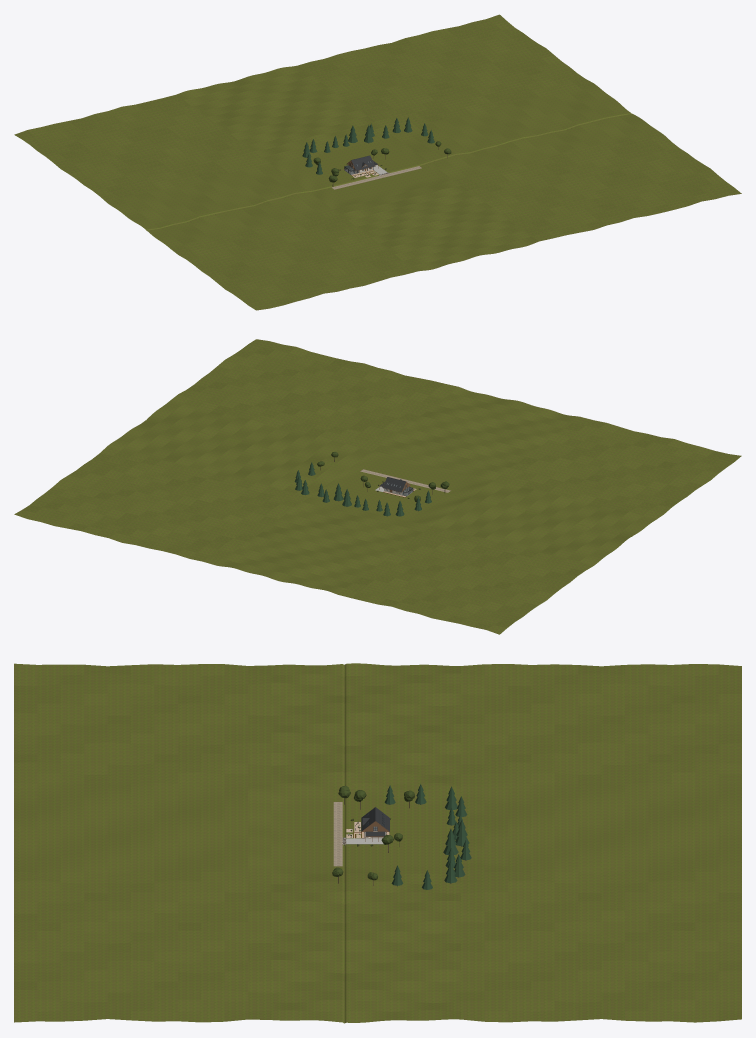
File: wojtek.glb
The picture shows the model from 3 angles, top to bottom: view 1: azimuth 30°, elevation 25°; view 2: azimuth 150°, elevation 25°; view 3: azimuth 270°, elevation 25°; orthographic projection. The views are drawn at different scales.
Parts seen in each view (by area): view 1: Teren_trawa, Swierki; view 2: Teren_trawa, Swierki; view 3: Teren_trawa, Swierki, Drzewa_korony, Droga_azur.
Part boxes in pixels (x1,y1,x2,y2): Teren_trawa: [14, 14, 741, 310]; Swierki: [302, 117, 434, 174]; Teren_trawa: [14, 339, 741, 634]; Swierki: [294, 462, 431, 516]; Teren_trawa: [14, 663, 741, 1023]; Swierki: [384, 784, 471, 889]; Drzewa_korony: [332, 785, 414, 880]; Droga_azur: [333, 802, 342, 866].
Size of the model in its own units: 360 by 13.61 by 311.
Materials: 31 (11 with a texture image).
